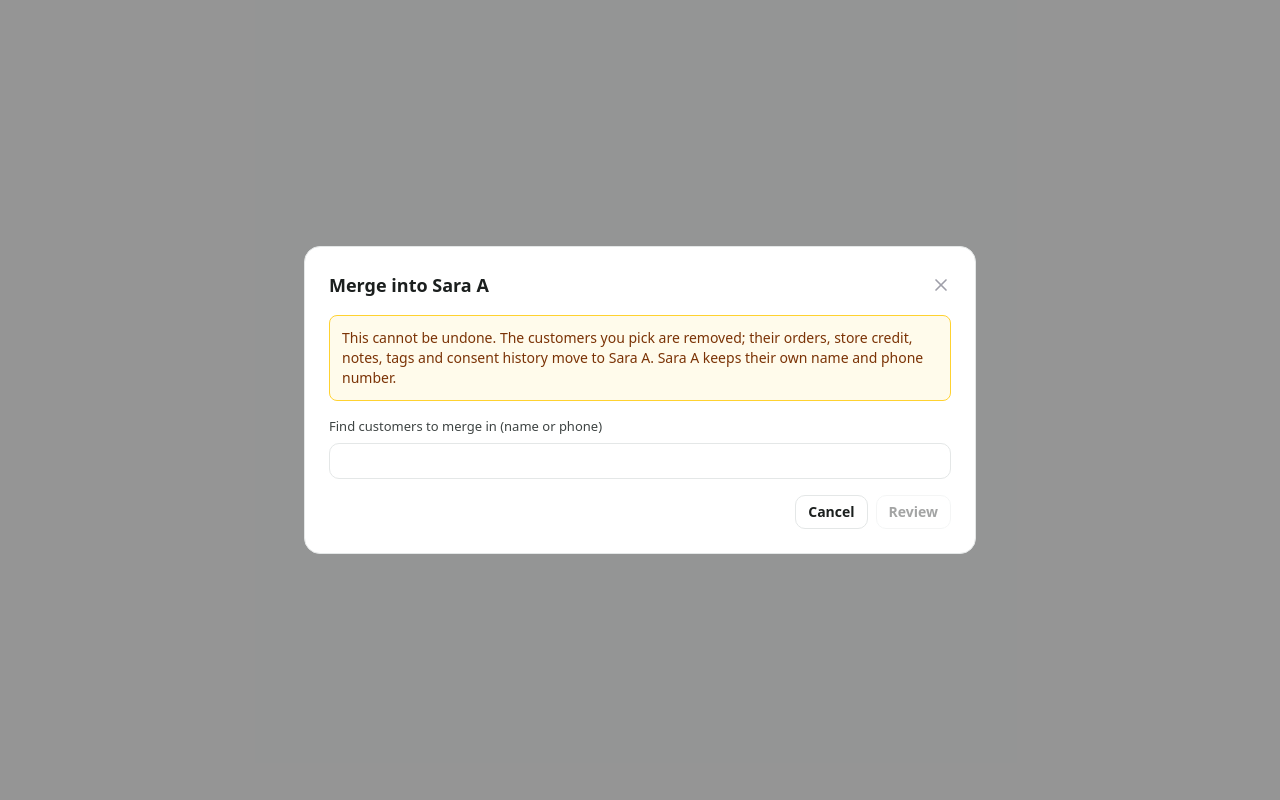
Test: MergeCustomersModal › shows the server's refusal and stays open
Type "sara" into the field labelled "Find customers to merge in (name or phone)". click: (640, 461)
box: top-left (329, 443), bottom-right (951, 479)
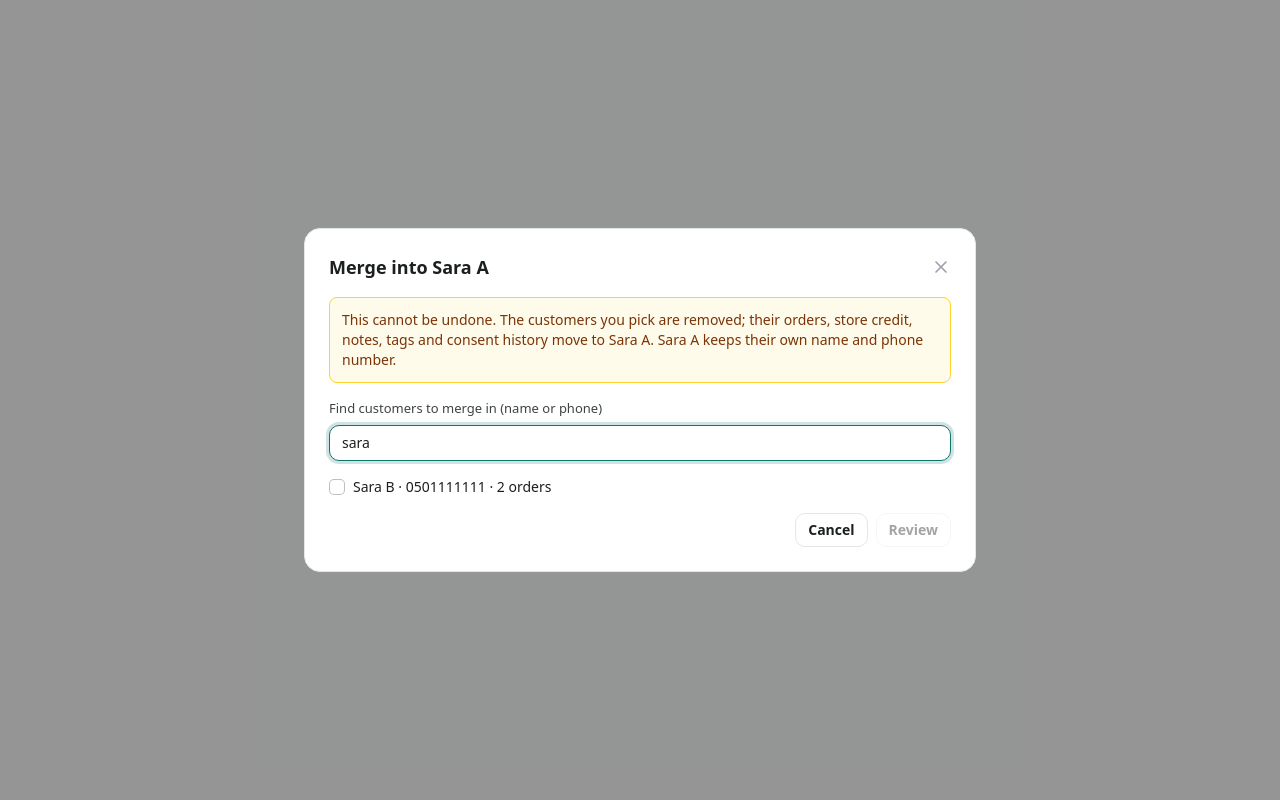
Click the checkbox labelled "Sara B · 0501111111 · 2 orders". click: (337, 487)
box: top-left (329, 479), bottom-right (345, 495)
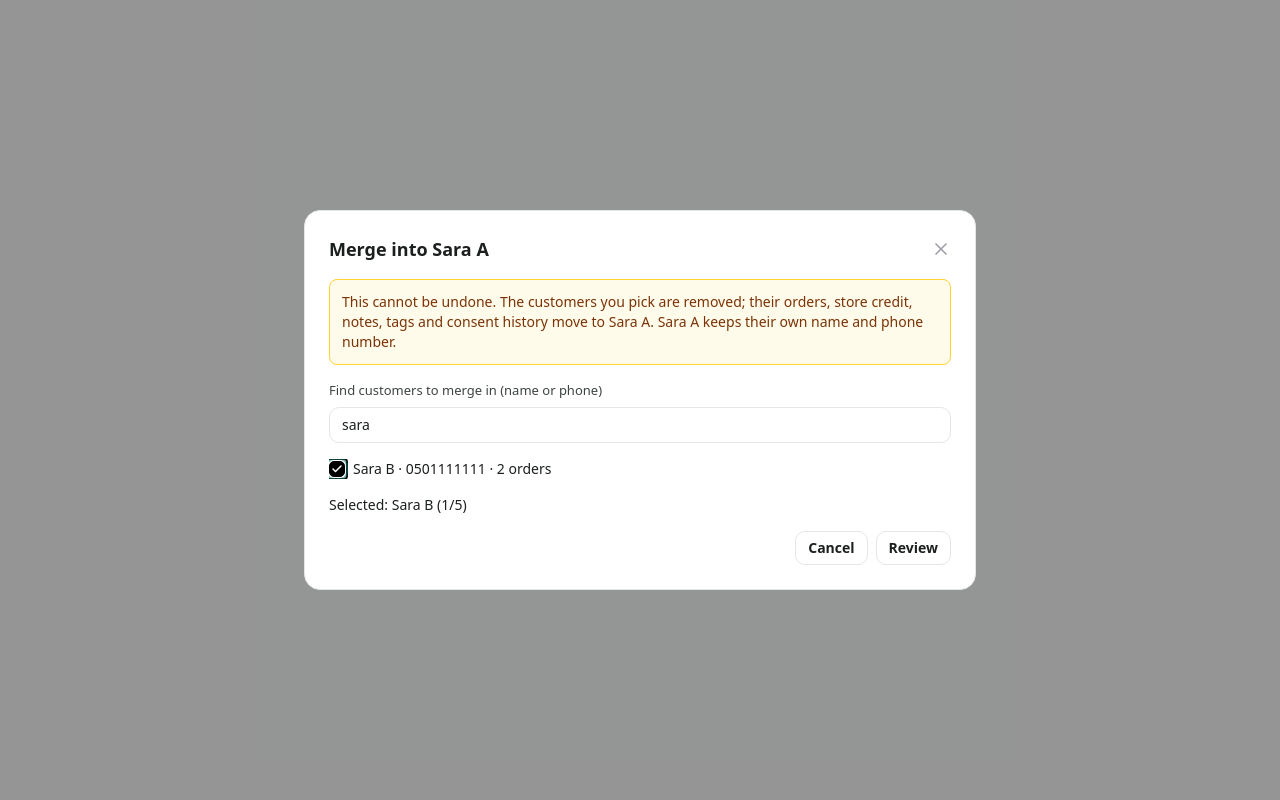
Click the button "Review". click: (913, 548)
box: top-left (876, 531), bottom-right (951, 565)
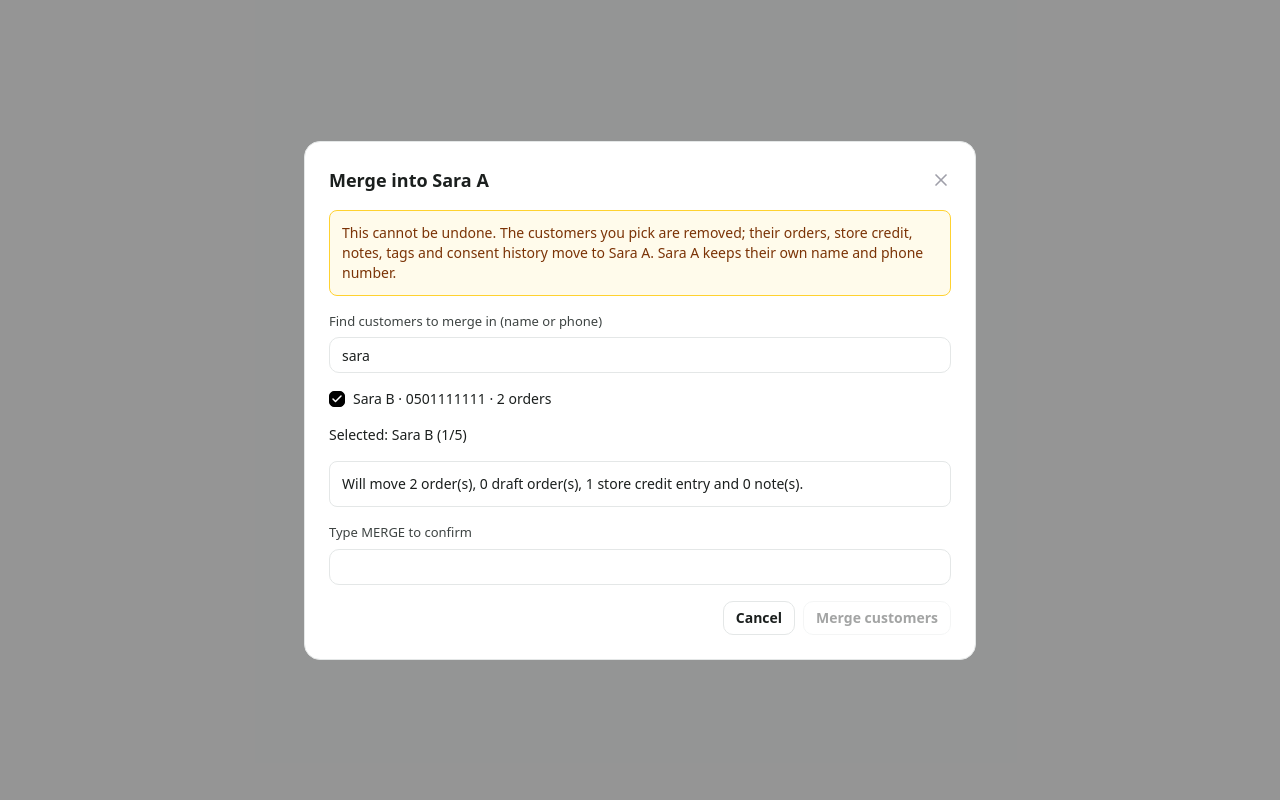
Type "MERGE" into the field labelled "Type MERGE to confirm". click: (640, 566)
box: top-left (329, 548), bottom-right (951, 584)
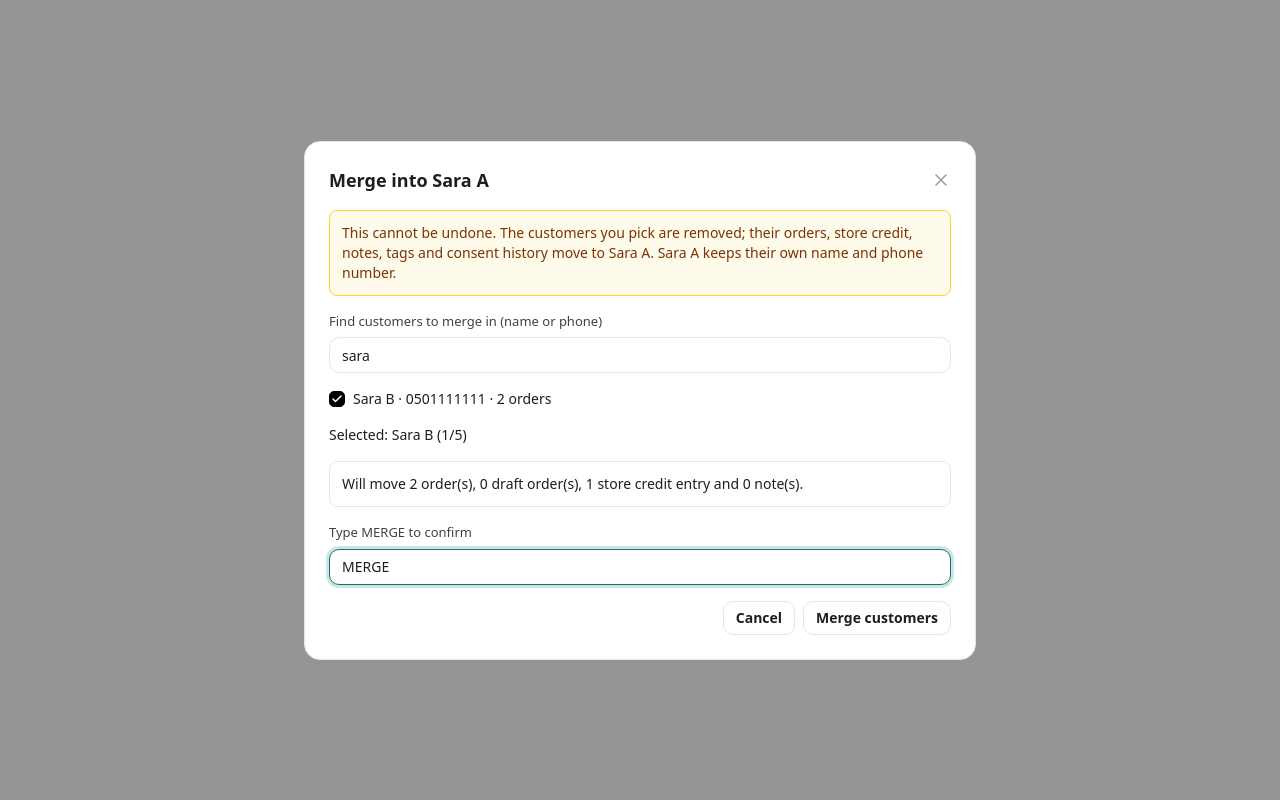
Click the button "Merge customers". click: (877, 618)
box: top-left (803, 600), bottom-right (951, 634)
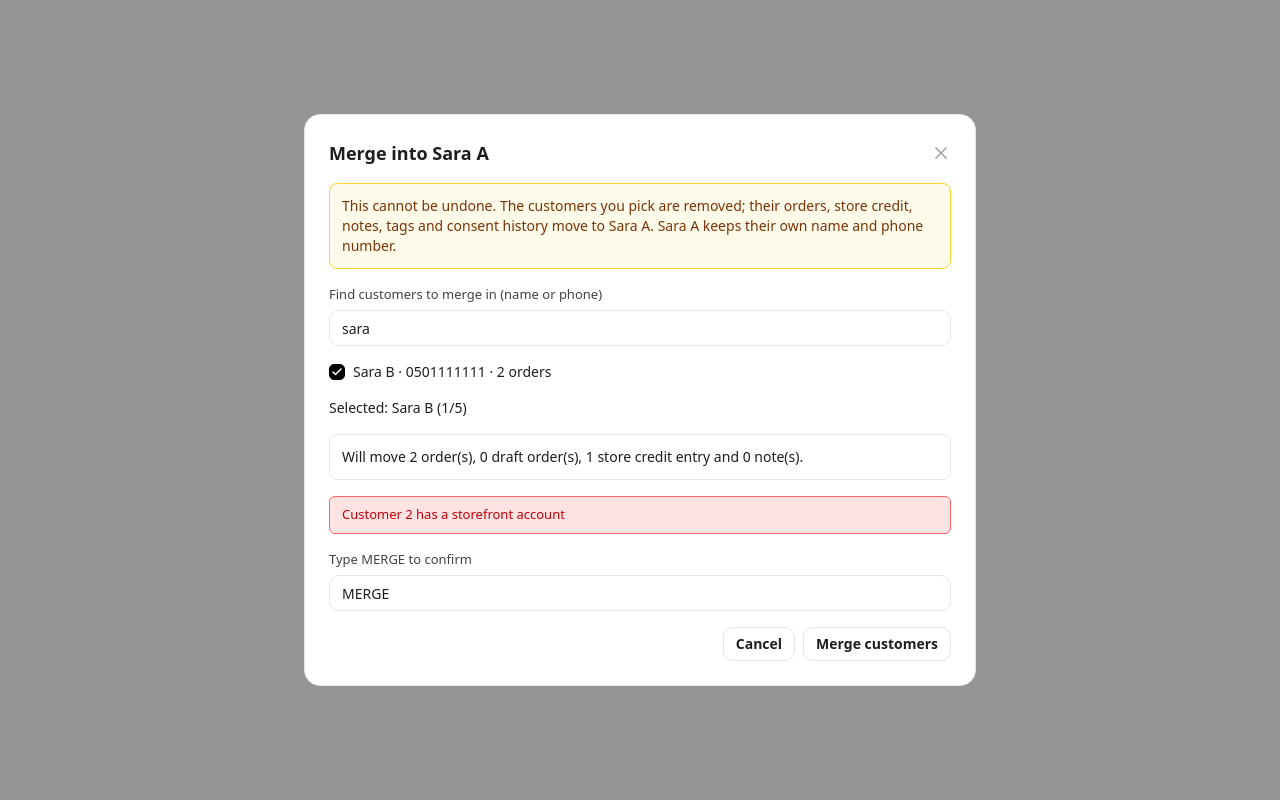
Now the text "Customer 2 has a storefront account" is shown, box top-left (329, 496), bottom-right (951, 534)
